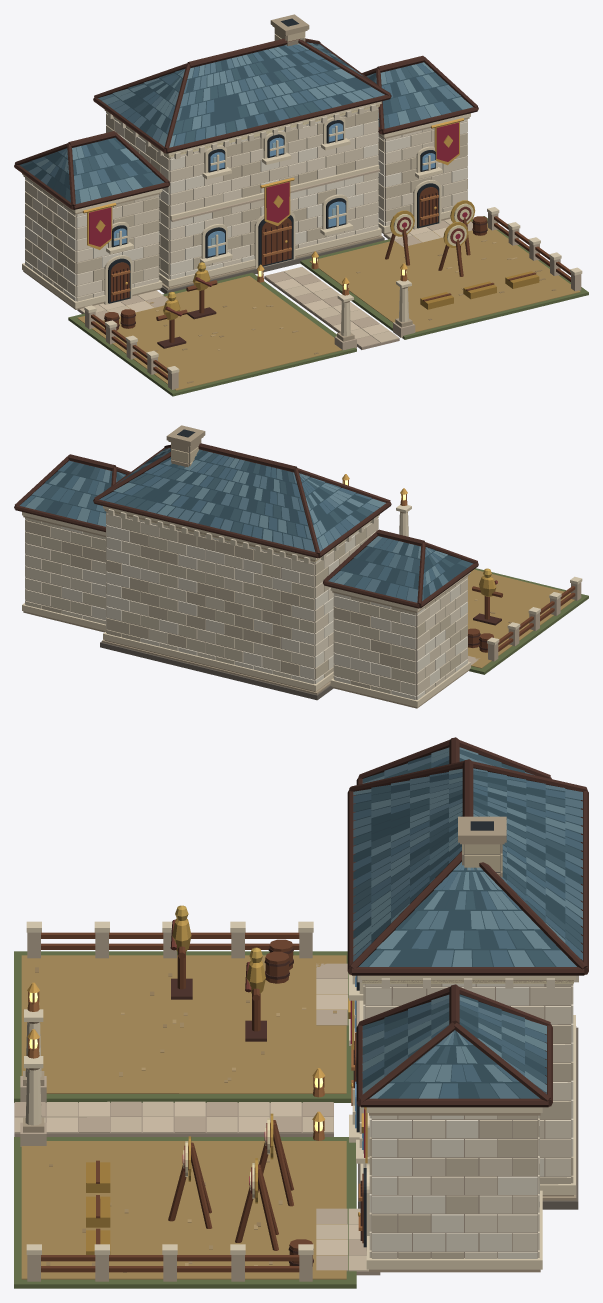
The model's file is barracks-nivel-7.glb.
3 renders of one model, top to bottom at view 1: azimuth 30°, elevation 25°; view 2: azimuth 150°, elevation 25°; view 3: azimuth 270°, elevation 25°, orthographic. The views are drawn at different scales.
Parts seen in each view (by area): view 1: Quartel da guarda real #ad8f5a, Quartel da guarda real #ded1b9, Quartel da guarda real #e6d7ba, Quartel da guarda real #344d58, Quartel da guarda real #4c3028, Quartel da guarda real #cec1a8, Quartel da guarda real #e8dcc5, Quartel da guarda real #eae1ce, Quartel da guarda real #637f89, Quartel da guarda real #70432c, Quartel da guarda real #55717e, Quartel da guarda real #68744a (+16 smaller); view 2: Quartel da guarda real #ded1b9, Quartel da guarda real #eae1ce, Quartel da guarda real #cec1a8, Quartel da guarda real #e8dcc5, Quartel da guarda real #344d58, Quartel da guarda real #4c3028, Quartel da guarda real #e6d7ba, Quartel da guarda real #486574, Quartel da guarda real #3f5a65, Quartel da guarda real #55717e, Quartel da guarda real #637f89, Quartel da guarda real #ad8f5a (+7 smaller); view 3: Quartel da guarda real #ad8f5a, Quartel da guarda real #344d58, Quartel da guarda real #4c3028, Quartel da guarda real #637f89, Quartel da guarda real #3f5a65, Quartel da guarda real #68744a, Quartel da guarda real #70432c, Quartel da guarda real #eae1ce, Quartel da guarda real #55717e, Quartel da guarda real #e6d7ba, Quartel da guarda real #c1af99, Quartel da guarda real #486574 (+16 smaller).
Part boxes in pixels (x1=…): Quartel da guarda real #ad8f5a: x1=77, y1=221, x2=580, y2=390; Quartel da guarda real #ded1b9: x1=25, y1=104, x2=467, y2=301; Quartel da guarda real #e6d7ba: x1=22, y1=101, x2=582, y2=373; Quartel da guarda real #344d58: x1=22, y1=43, x2=462, y2=202; Quartel da guarda real #4c3028: x1=14, y1=38, x2=487, y2=348; Quartel da guarda real #cec1a8: x1=25, y1=109, x2=467, y2=290; Quartel da guarda real #e8dcc5: x1=25, y1=108, x2=467, y2=297; Quartel da guarda real #eae1ce: x1=25, y1=112, x2=467, y2=301; Quartel da guarda real #637f89: x1=36, y1=43, x2=472, y2=202; Quartel da guarda real #70432c: x1=91, y1=187, x2=570, y2=380; Quartel da guarda real #55717e: x1=28, y1=44, x2=460, y2=192; Quartel da guarda real #68744a: x1=68, y1=216, x2=588, y2=396; Quartel da guarda real #ded1b9: x1=25, y1=509, x2=467, y2=695; Quartel da guarda real #eae1ce: x1=25, y1=522, x2=467, y2=699; Quartel da guarda real #cec1a8: x1=25, y1=511, x2=467, y2=688; Quartel da guarda real #e8dcc5: x1=25, y1=513, x2=460, y2=695; Quartel da guarda real #344d58: x1=25, y1=450, x2=466, y2=599; Quartel da guarda real #4c3028: x1=14, y1=443, x2=501, y2=650; Quartel da guarda real #e6d7ba: x1=22, y1=505, x2=582, y2=707; Quartel da guarda real #486574: x1=19, y1=454, x2=444, y2=599; Quartel da guarda real #3f5a65: x1=35, y1=448, x2=473, y2=600; Quartel da guarda real #55717e: x1=32, y1=451, x2=448, y2=602; Quartel da guarda real #637f89: x1=25, y1=448, x2=447, y2=584; Quartel da guarda real #ad8f5a: x1=467, y1=569, x2=574, y2=668; Quartel da guarda real #ad8f5a: x1=21, y1=955, x2=346, y2=1279; Quartel da guarda real #344d58: x1=353, y1=749, x2=582, y2=1098; Quartel da guarda real #4c3028: x1=171, y1=737, x2=588, y2=1265; Quartel da guarda real #637f89: x1=353, y1=747, x2=582, y2=1098; Quartel da guarda real #3f5a65: x1=353, y1=749, x2=582, y2=1098; Quartel da guarda real #68744a: x1=14, y1=951, x2=356, y2=1288; Quartel da guarda real #70432c: x1=41, y1=932, x2=363, y2=1272; Quartel da guarda real #eae1ce: x1=365, y1=983, x2=573, y2=1258; Quartel da guarda real #55717e: x1=353, y1=757, x2=582, y2=1098; Quartel da guarda real #e6d7ba: x1=24, y1=921, x2=575, y2=1269; Quartel da guarda real #c1af99: x1=14, y1=932, x2=366, y2=1281; Quartel da guarda real #486574: x1=353, y1=756, x2=582, y2=1098.
Bounding box in the file's own units: 13.45 × 6.38 × 9.82.
